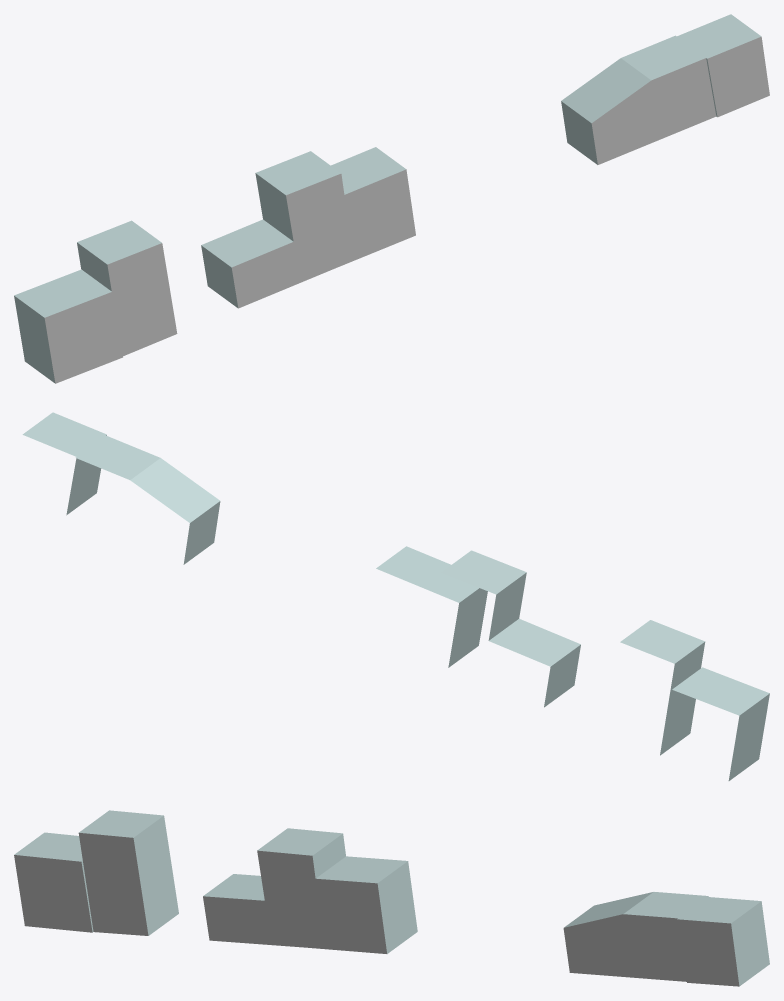
The picture shows the model from 3 angles, top to bottom: view 1: azimuth 30°, elevation 25°; view 2: azimuth 150°, elevation 25°; view 3: azimuth 330°, elevation 25°; orthographic projection.
Parts seen in each view (by area): view 1: 0_1_2_1_3_1_3_0_3; view 2: 0_1_2_1_3_1_3_0_3; view 3: 0_1_2_1_3_1_3_0_3.
Part boxes in pixels (x1,y1,x2,y2): 0_1_2_1_3_1_3_0_3: (14,14,769,383); 0_1_2_1_3_1_3_0_3: (22,412,769,780); 0_1_2_1_3_1_3_0_3: (14,810,769,986).
Size of the model in its own units: 41.08 by 9.46 by 3.13.
